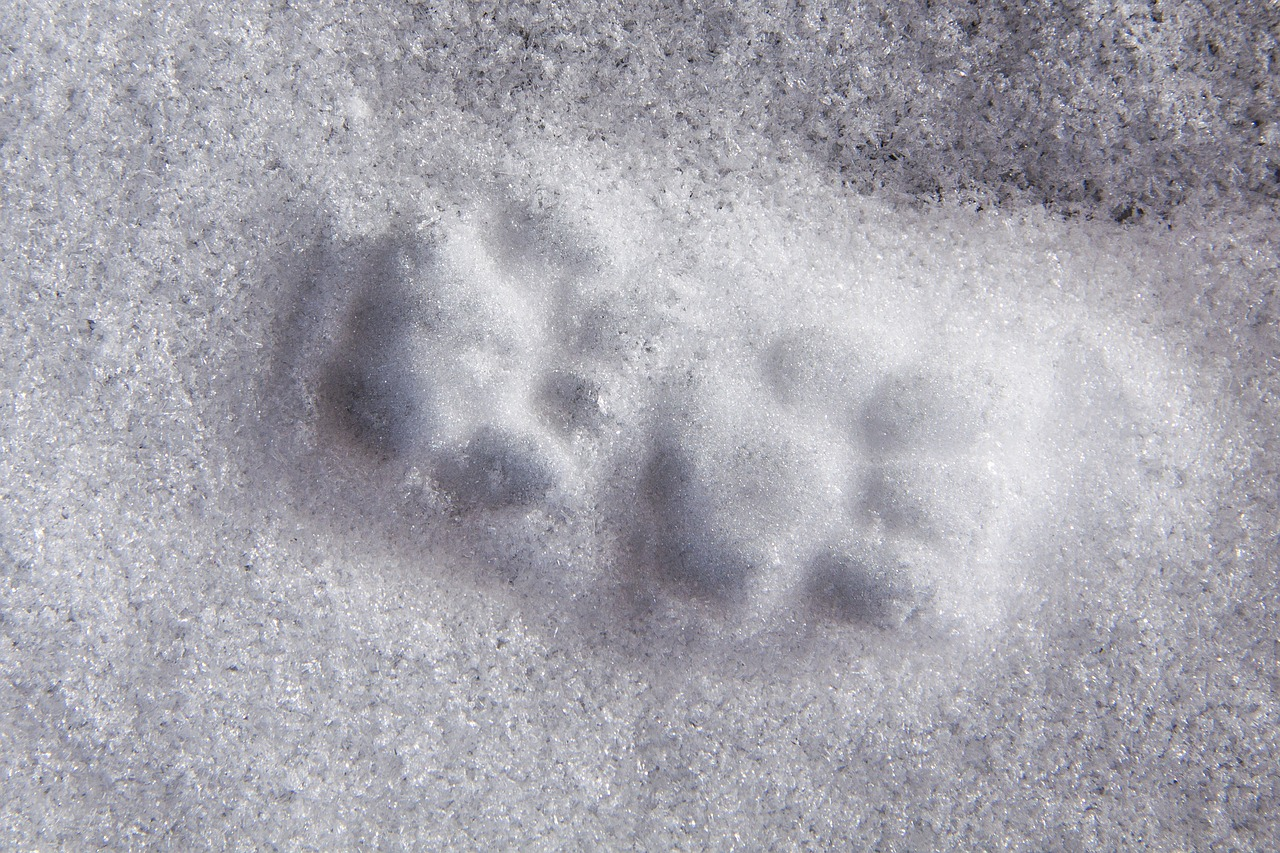cat: (643, 306, 981, 669), (335, 188, 653, 530)
